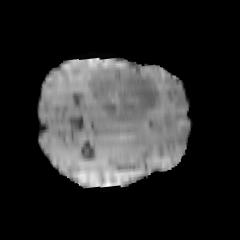glioma: (88, 67, 160, 120)
